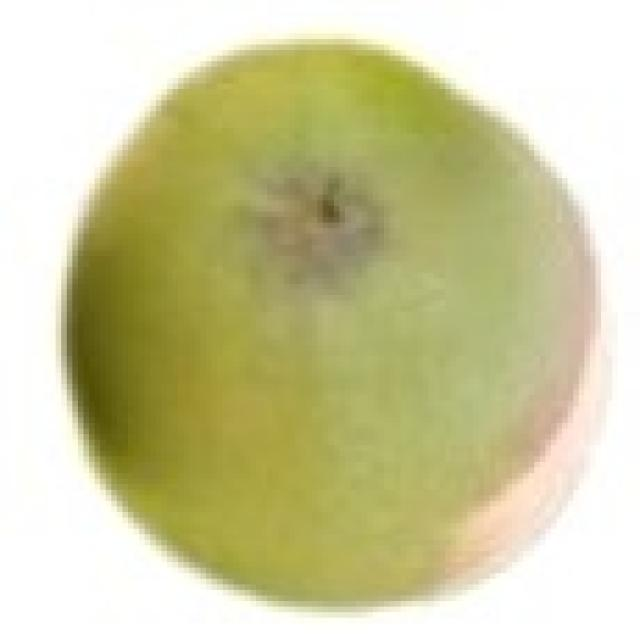50-_ripeness: (61, 38, 614, 607)
